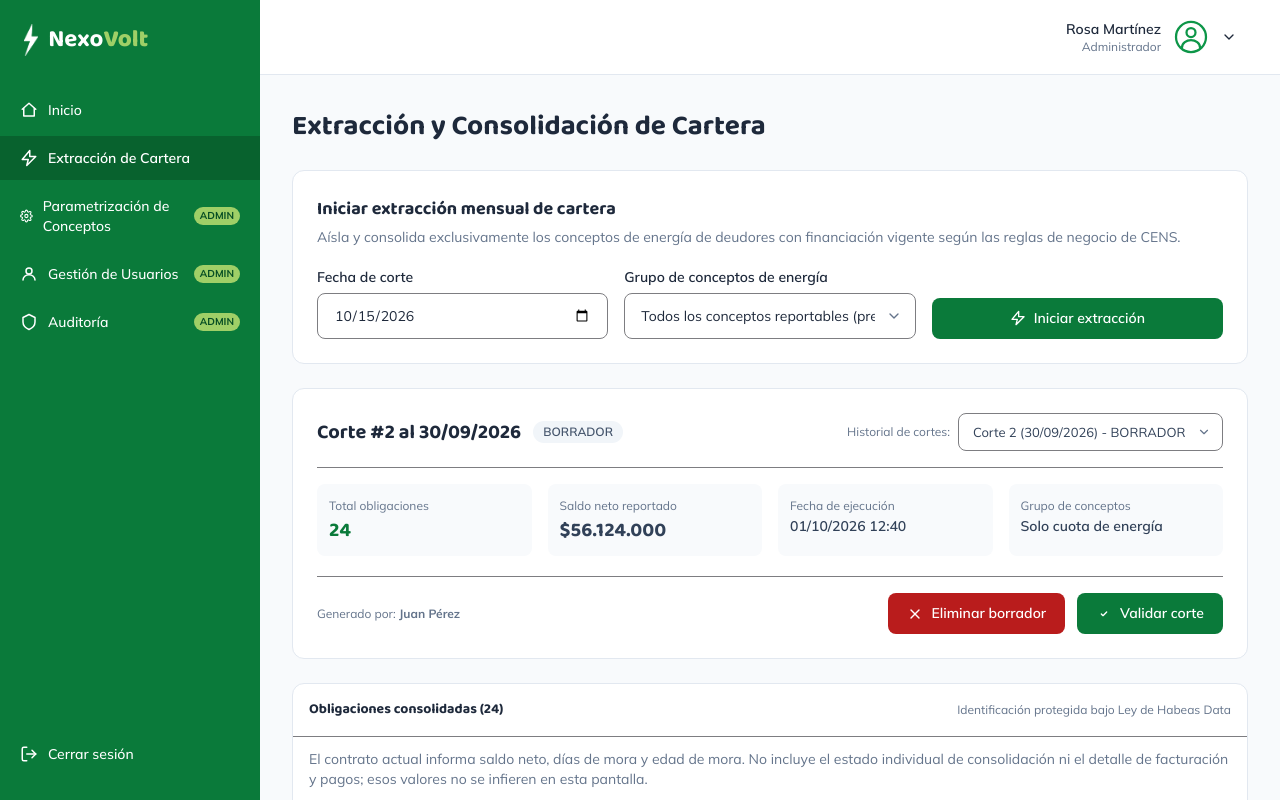
Test: pantalla de extracción y consolidación de cartera (RF1–RF5) › cancela la eliminación de un corte en borrador
The image size is (1280, 800).
Expected: the heading "Corte #2 al 30/09/2026" is shown, top-left (317, 418), bottom-right (521, 446)
Click the button "Eliminar borrador": (977, 614) top-left (888, 593), bottom-right (1065, 634)
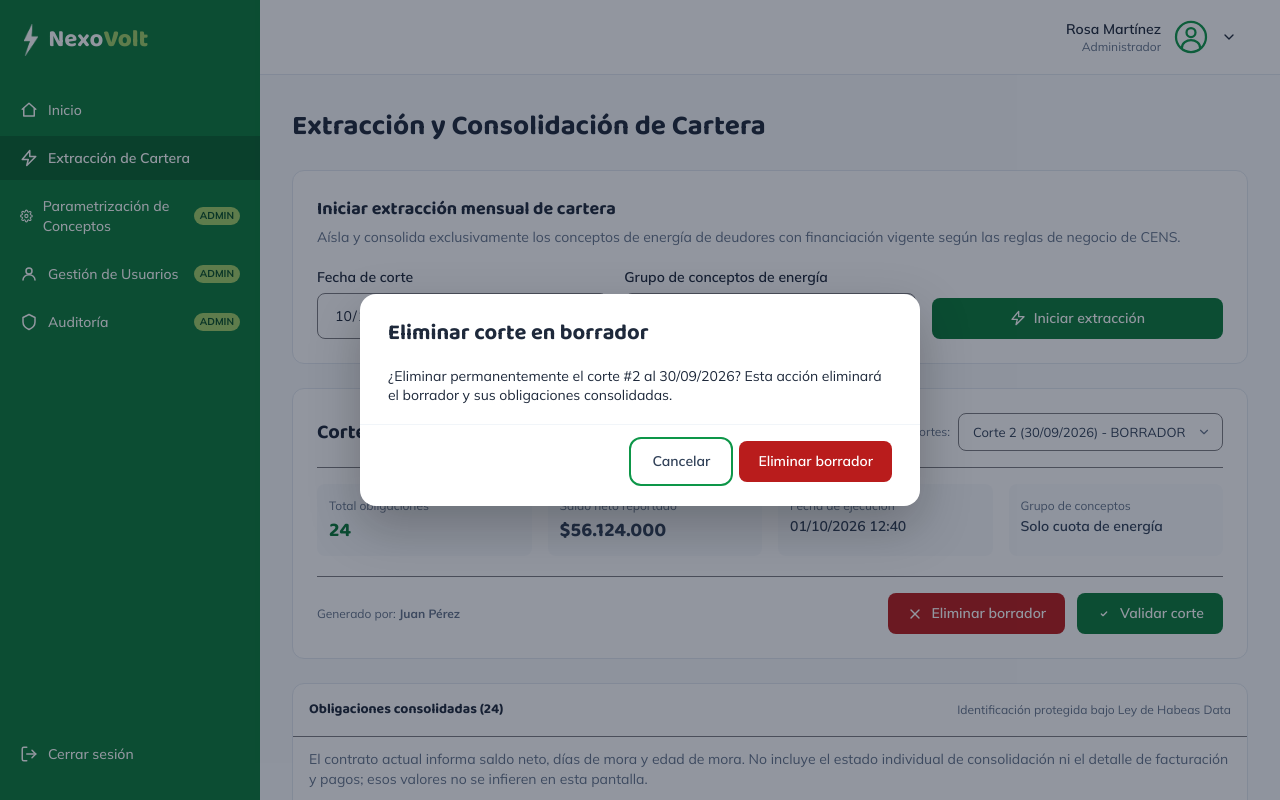
Expected: the text "¿Eliminar permanentemente el corte #2 al 30/09/2026?" is shown, top-left (388, 366), bottom-right (882, 404)
Click the button "Cancelar": (681, 461) top-left (633, 441), bottom-right (729, 482)
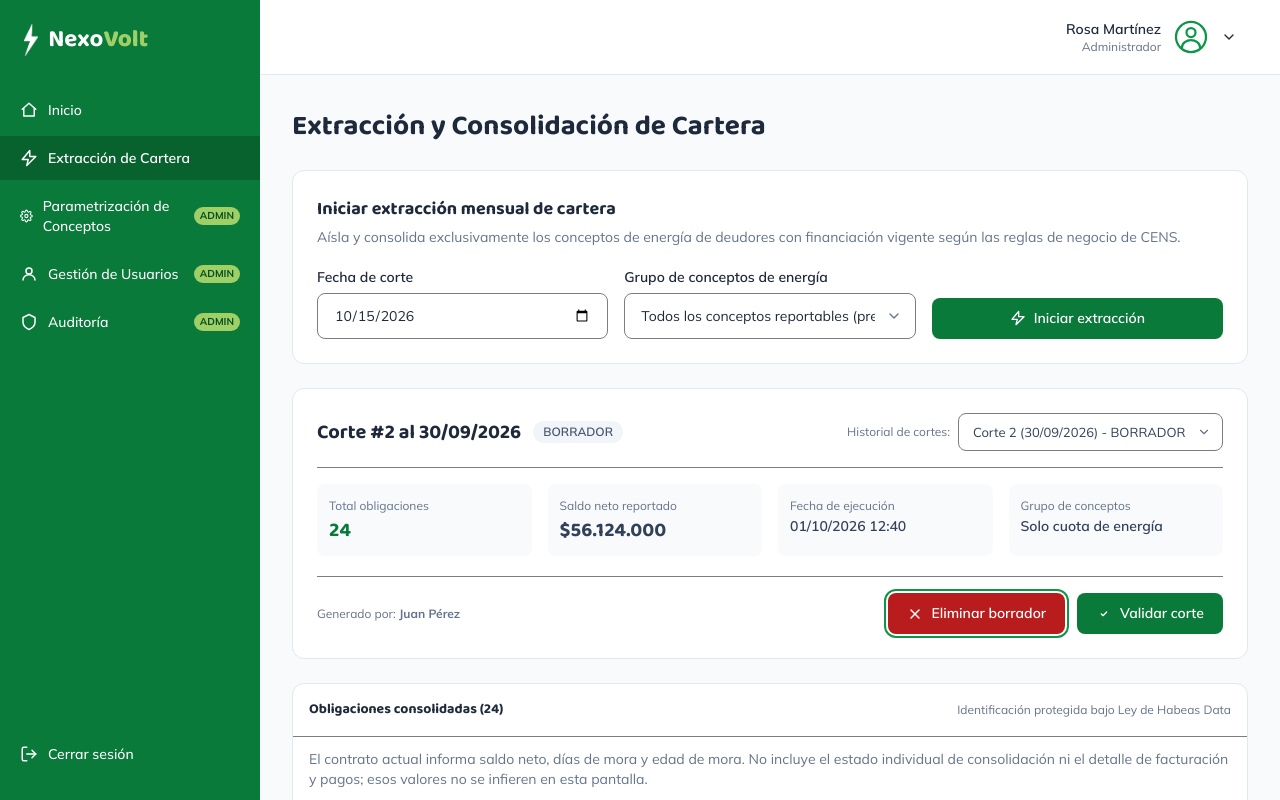
Expected: the heading "Corte #2 al 30/09/2026" is shown, top-left (317, 418), bottom-right (521, 446)
Expected: the dialog is gone
